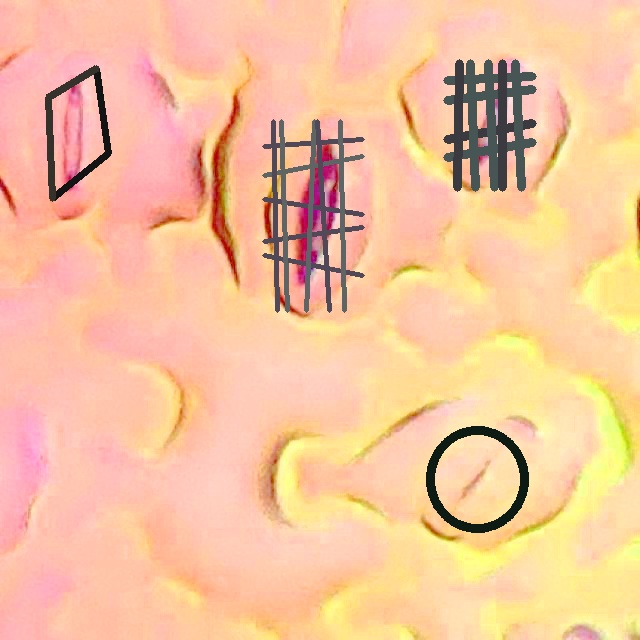close: (424, 425, 529, 532)
open: (262, 119, 364, 312), (443, 59, 536, 191), (45, 66, 110, 201)
